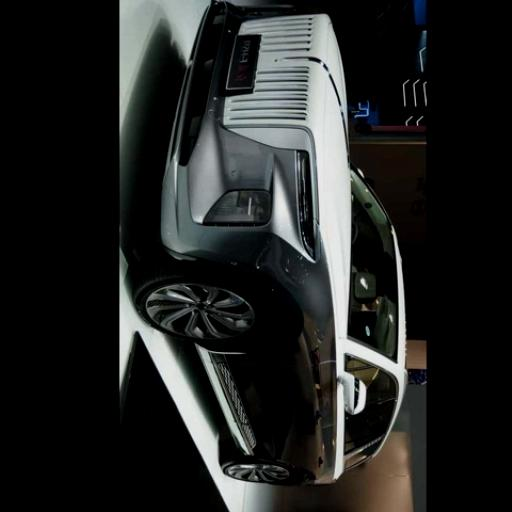suv: (135, 3, 405, 484)
